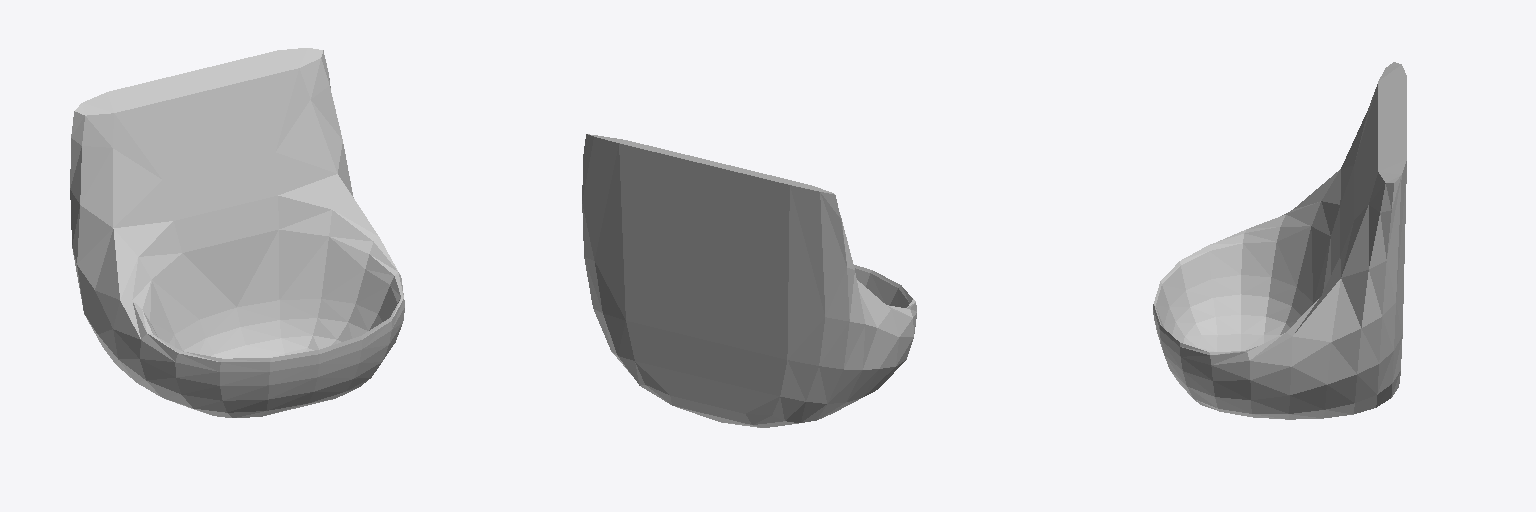
File: Pissoir.obj
3 views of the same model, side by side, from view 1: azimuth 30°, elevation 25°; view 2: azimuth 150°, elevation 25°; view 3: azimuth 270°, elevation 25° (orthographic).
Bounding box in the file's own units: 0.8398 × 0.8032 × 0.6689.